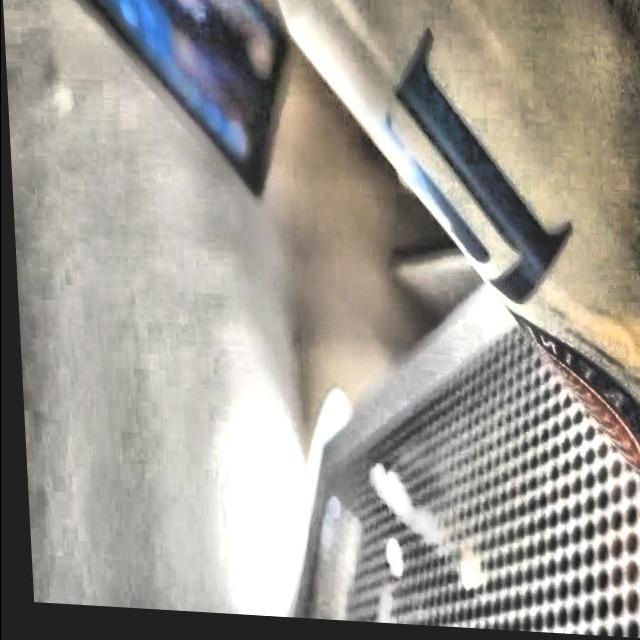Aluminum Can: (239, 0, 640, 533)
